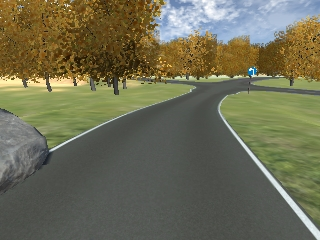left: (247, 67, 254, 77)
